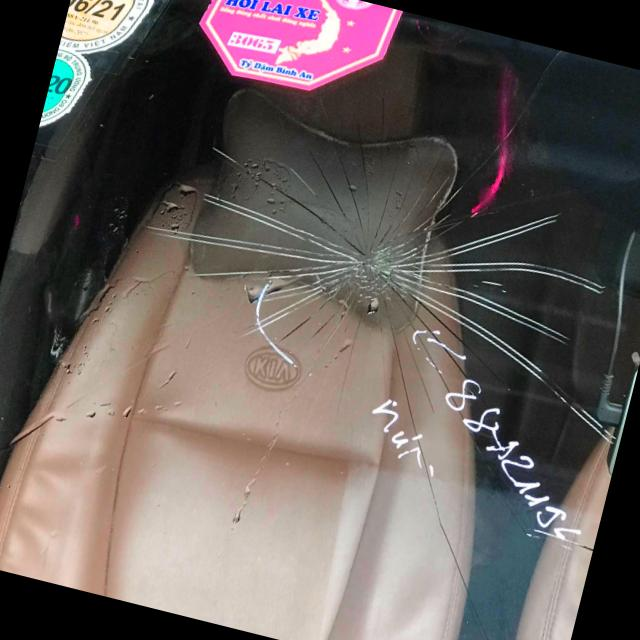Fissure: (127, 74, 634, 427), (132, 126, 370, 307), (393, 285, 639, 431), (390, 173, 614, 331)
